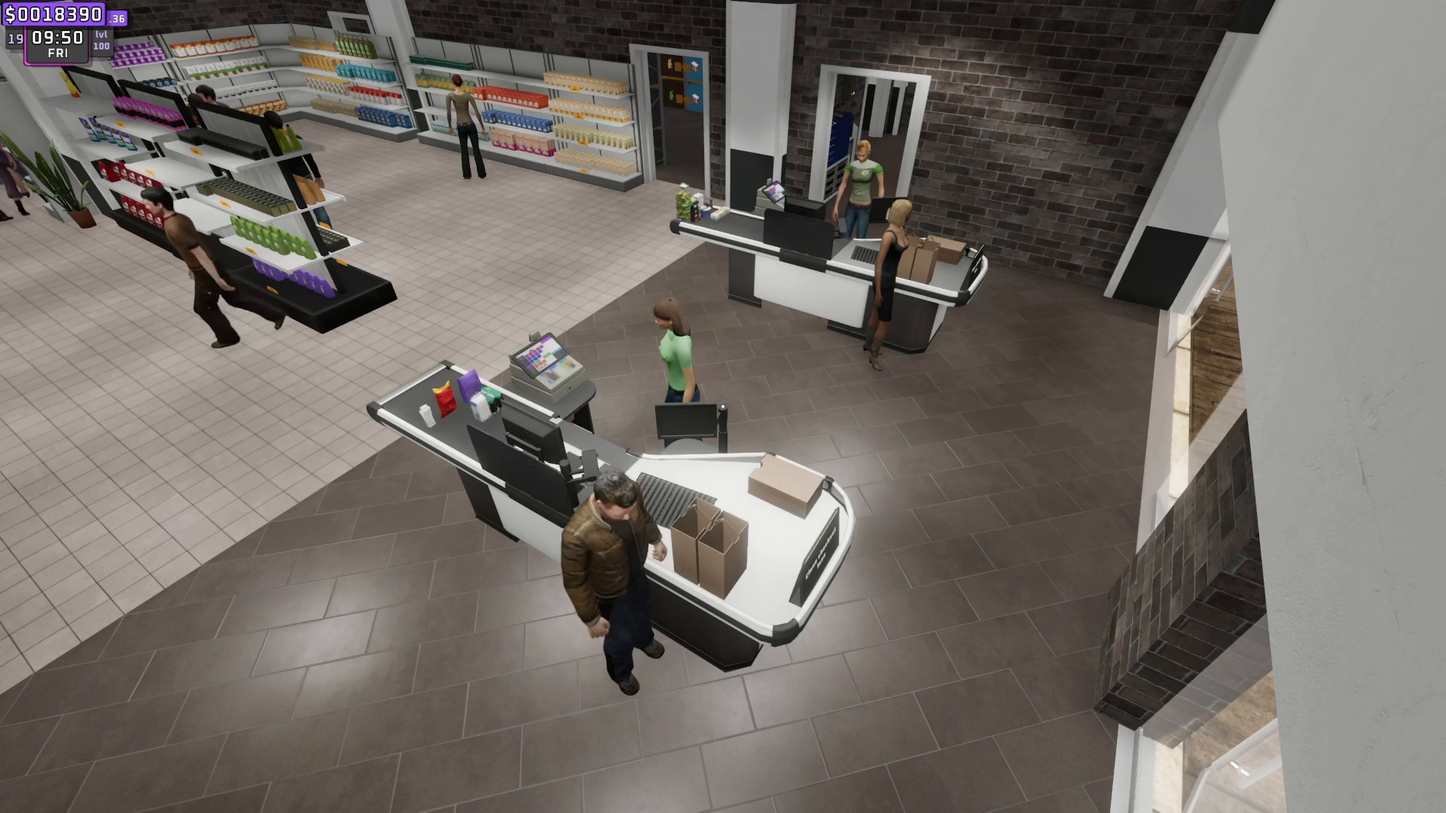Client: (568, 480, 663, 692), (875, 194, 912, 373)
Employee: (652, 304, 700, 398), (844, 136, 878, 238)
